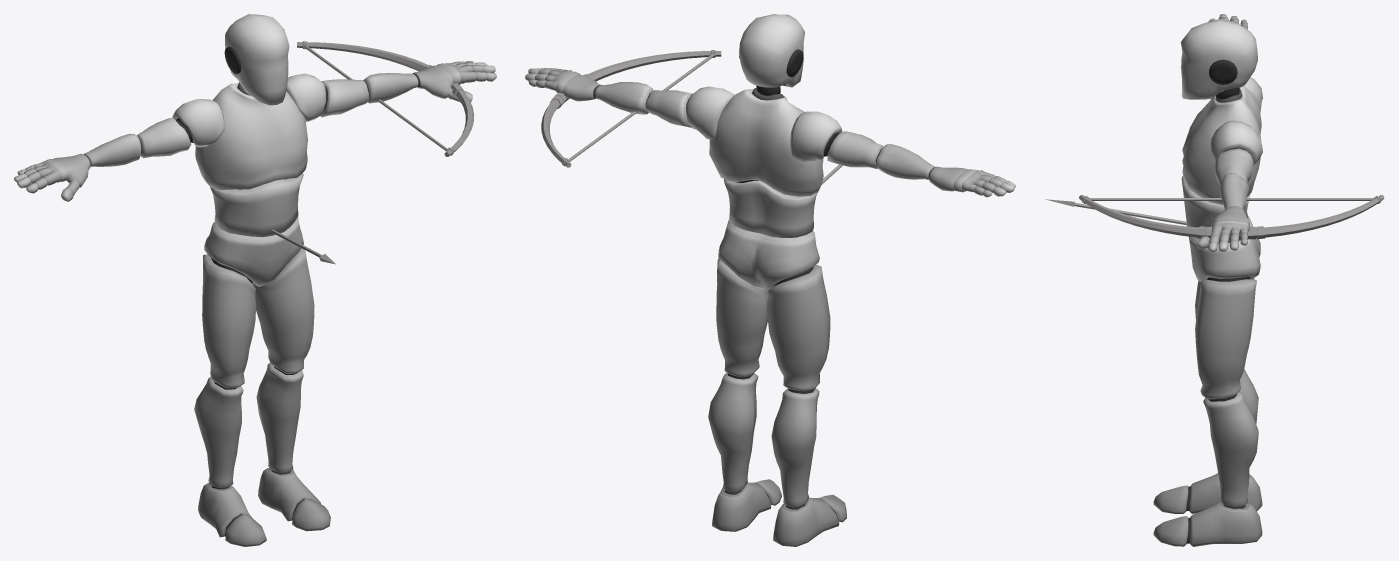
File: troop_archer.glb
The picture shows the model from 3 angles, left to right: view 1: azimuth 30°, elevation 25°; view 2: azimuth 150°, elevation 25°; view 3: azimuth 270°, elevation 25°; orthographic projection.
Visible parts, largest first — view 1: troop_archer; view 2: troop_archer; view 3: troop_archer.
Part boxes in pixels (<box>): troop_archer: <box>14,14,496,546</box>; troop_archer: <box>525,14,1015,546</box>; troop_archer: <box>1045,14,1384,546</box>.
Bounding box in the file's own units: 1.72 × 1.72 × 1.06.
3 materials, 3 textured.
